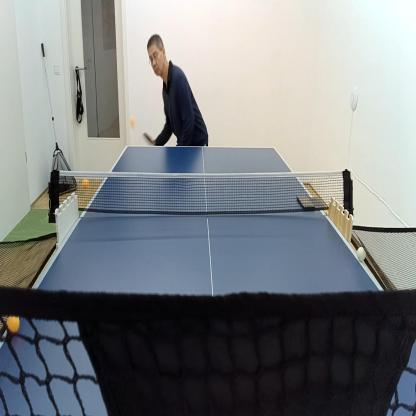Ball: (356, 245, 367, 263), (81, 178, 91, 193), (129, 115, 137, 131)
